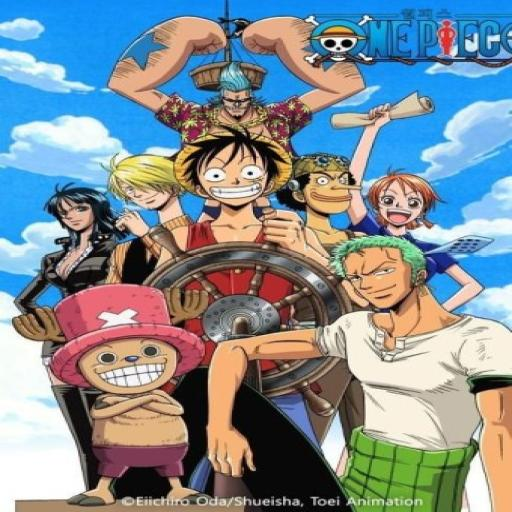Luffy: (176, 123, 285, 211)
Nami: (361, 172, 446, 237)
NicoRobin: (48, 179, 109, 243)
Usopp: (288, 146, 368, 216)
Zoro: (328, 235, 444, 310)
sanji: (104, 155, 170, 213)
